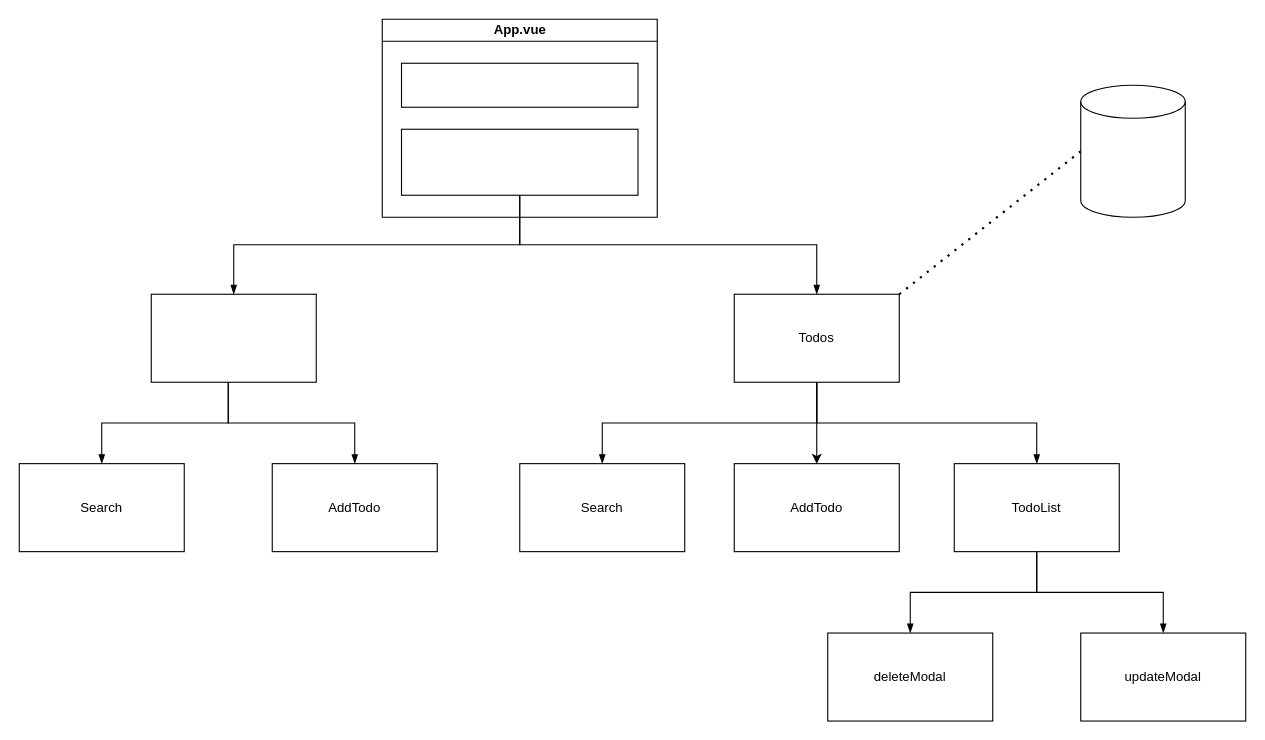
The diagram is 1265 pixels wide and 740 high, and some of its shapes have lost their labels. Here are the shapes that lost their labels. From the top down, the box of each, then its label:
(400, 62, 638, 107): navBar
(400, 128, 638, 195): container (router-view)
(1080, 84, 1185, 217): db.json
(150, 293, 316, 382): Home
